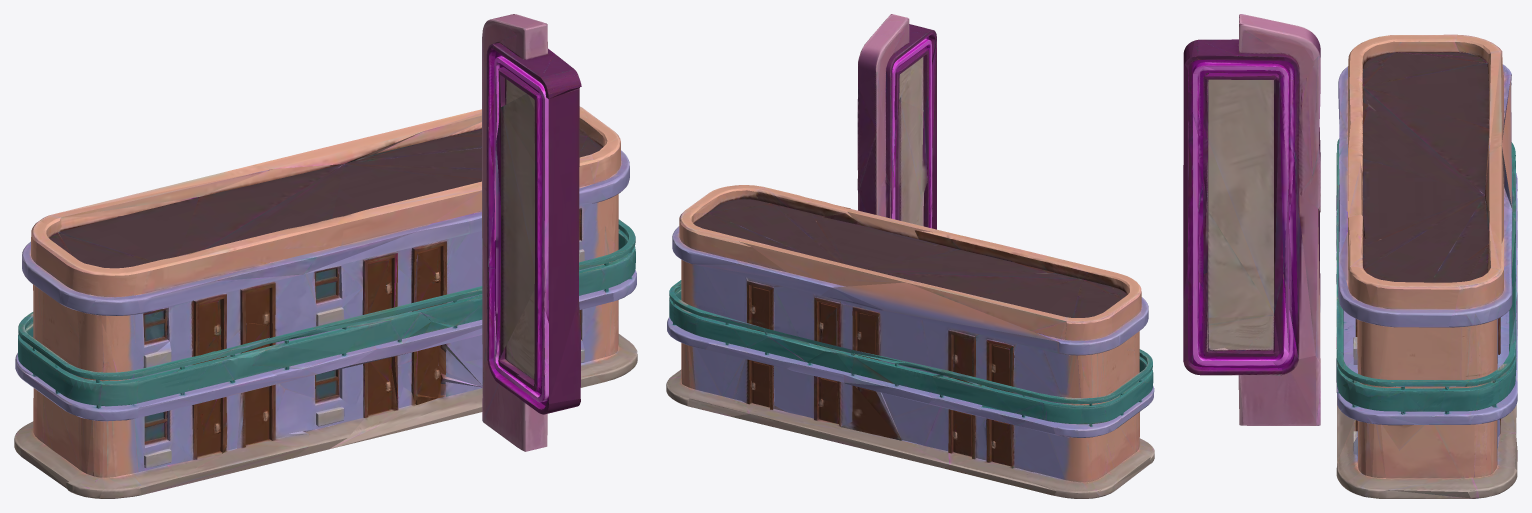
The model's file is motel.glb.
3 renders of one model, left to right at view 1: azimuth 30°, elevation 25°; view 2: azimuth 150°, elevation 25°; view 3: azimuth 270°, elevation 25°, orthographic. The views are drawn at different scales.
Parts seen in each view (by area): view 1: Mesh_0; view 2: Mesh_0; view 3: Mesh_0.
Part boxes in pixels (<box>): Mesh_0: <box>14,14,637,498</box>; Mesh_0: <box>666,14,1154,498</box>; Mesh_0: <box>1183,14,1517,498</box>.
Bounding box in the file's own units: 1.9 × 1.36 × 1.02.
Materials: 1 (1 with a texture image).
